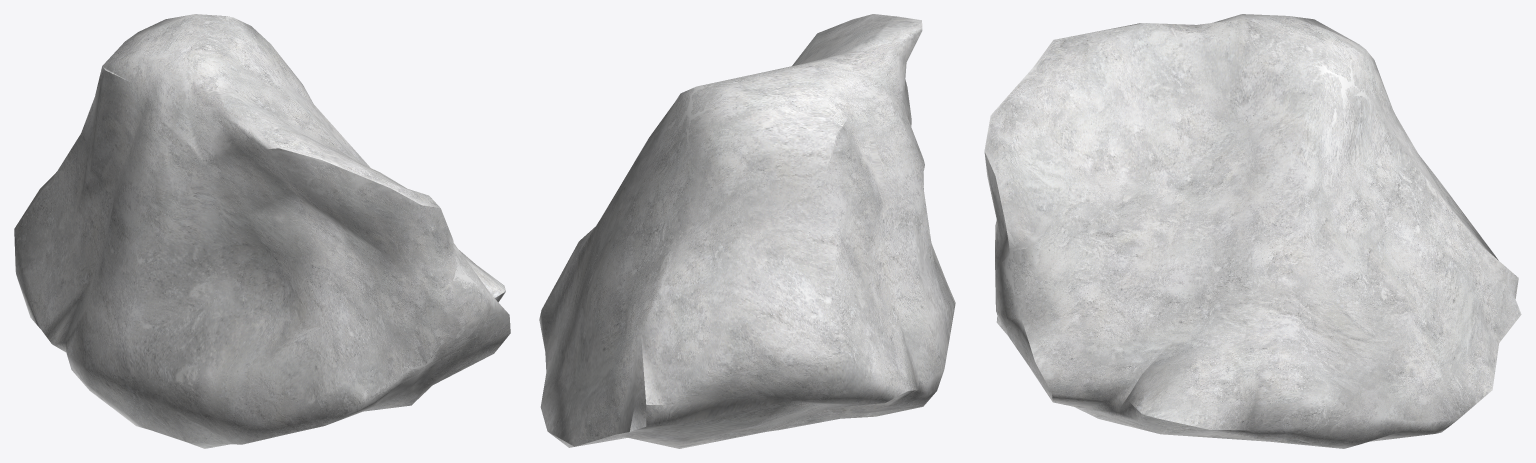
Rendered from rock_00D_lp.fbx.
3 views of the same model, side by side, from view 1: azimuth 30°, elevation 25°; view 2: azimuth 150°, elevation 25°; view 3: azimuth 270°, elevation 25° (orthographic).
Visible parts, largest first — view 1: rock_00D_lp; view 2: rock_00D_lp; view 3: rock_00D_lp.
Boxes of the visible parts, bbox=[...] form: rock_00D_lp: bbox=[14, 14, 510, 448]; rock_00D_lp: bbox=[539, 14, 955, 448]; rock_00D_lp: bbox=[984, 14, 1521, 448].
Bounding box in the file's own units: 157 × 141 × 188.
